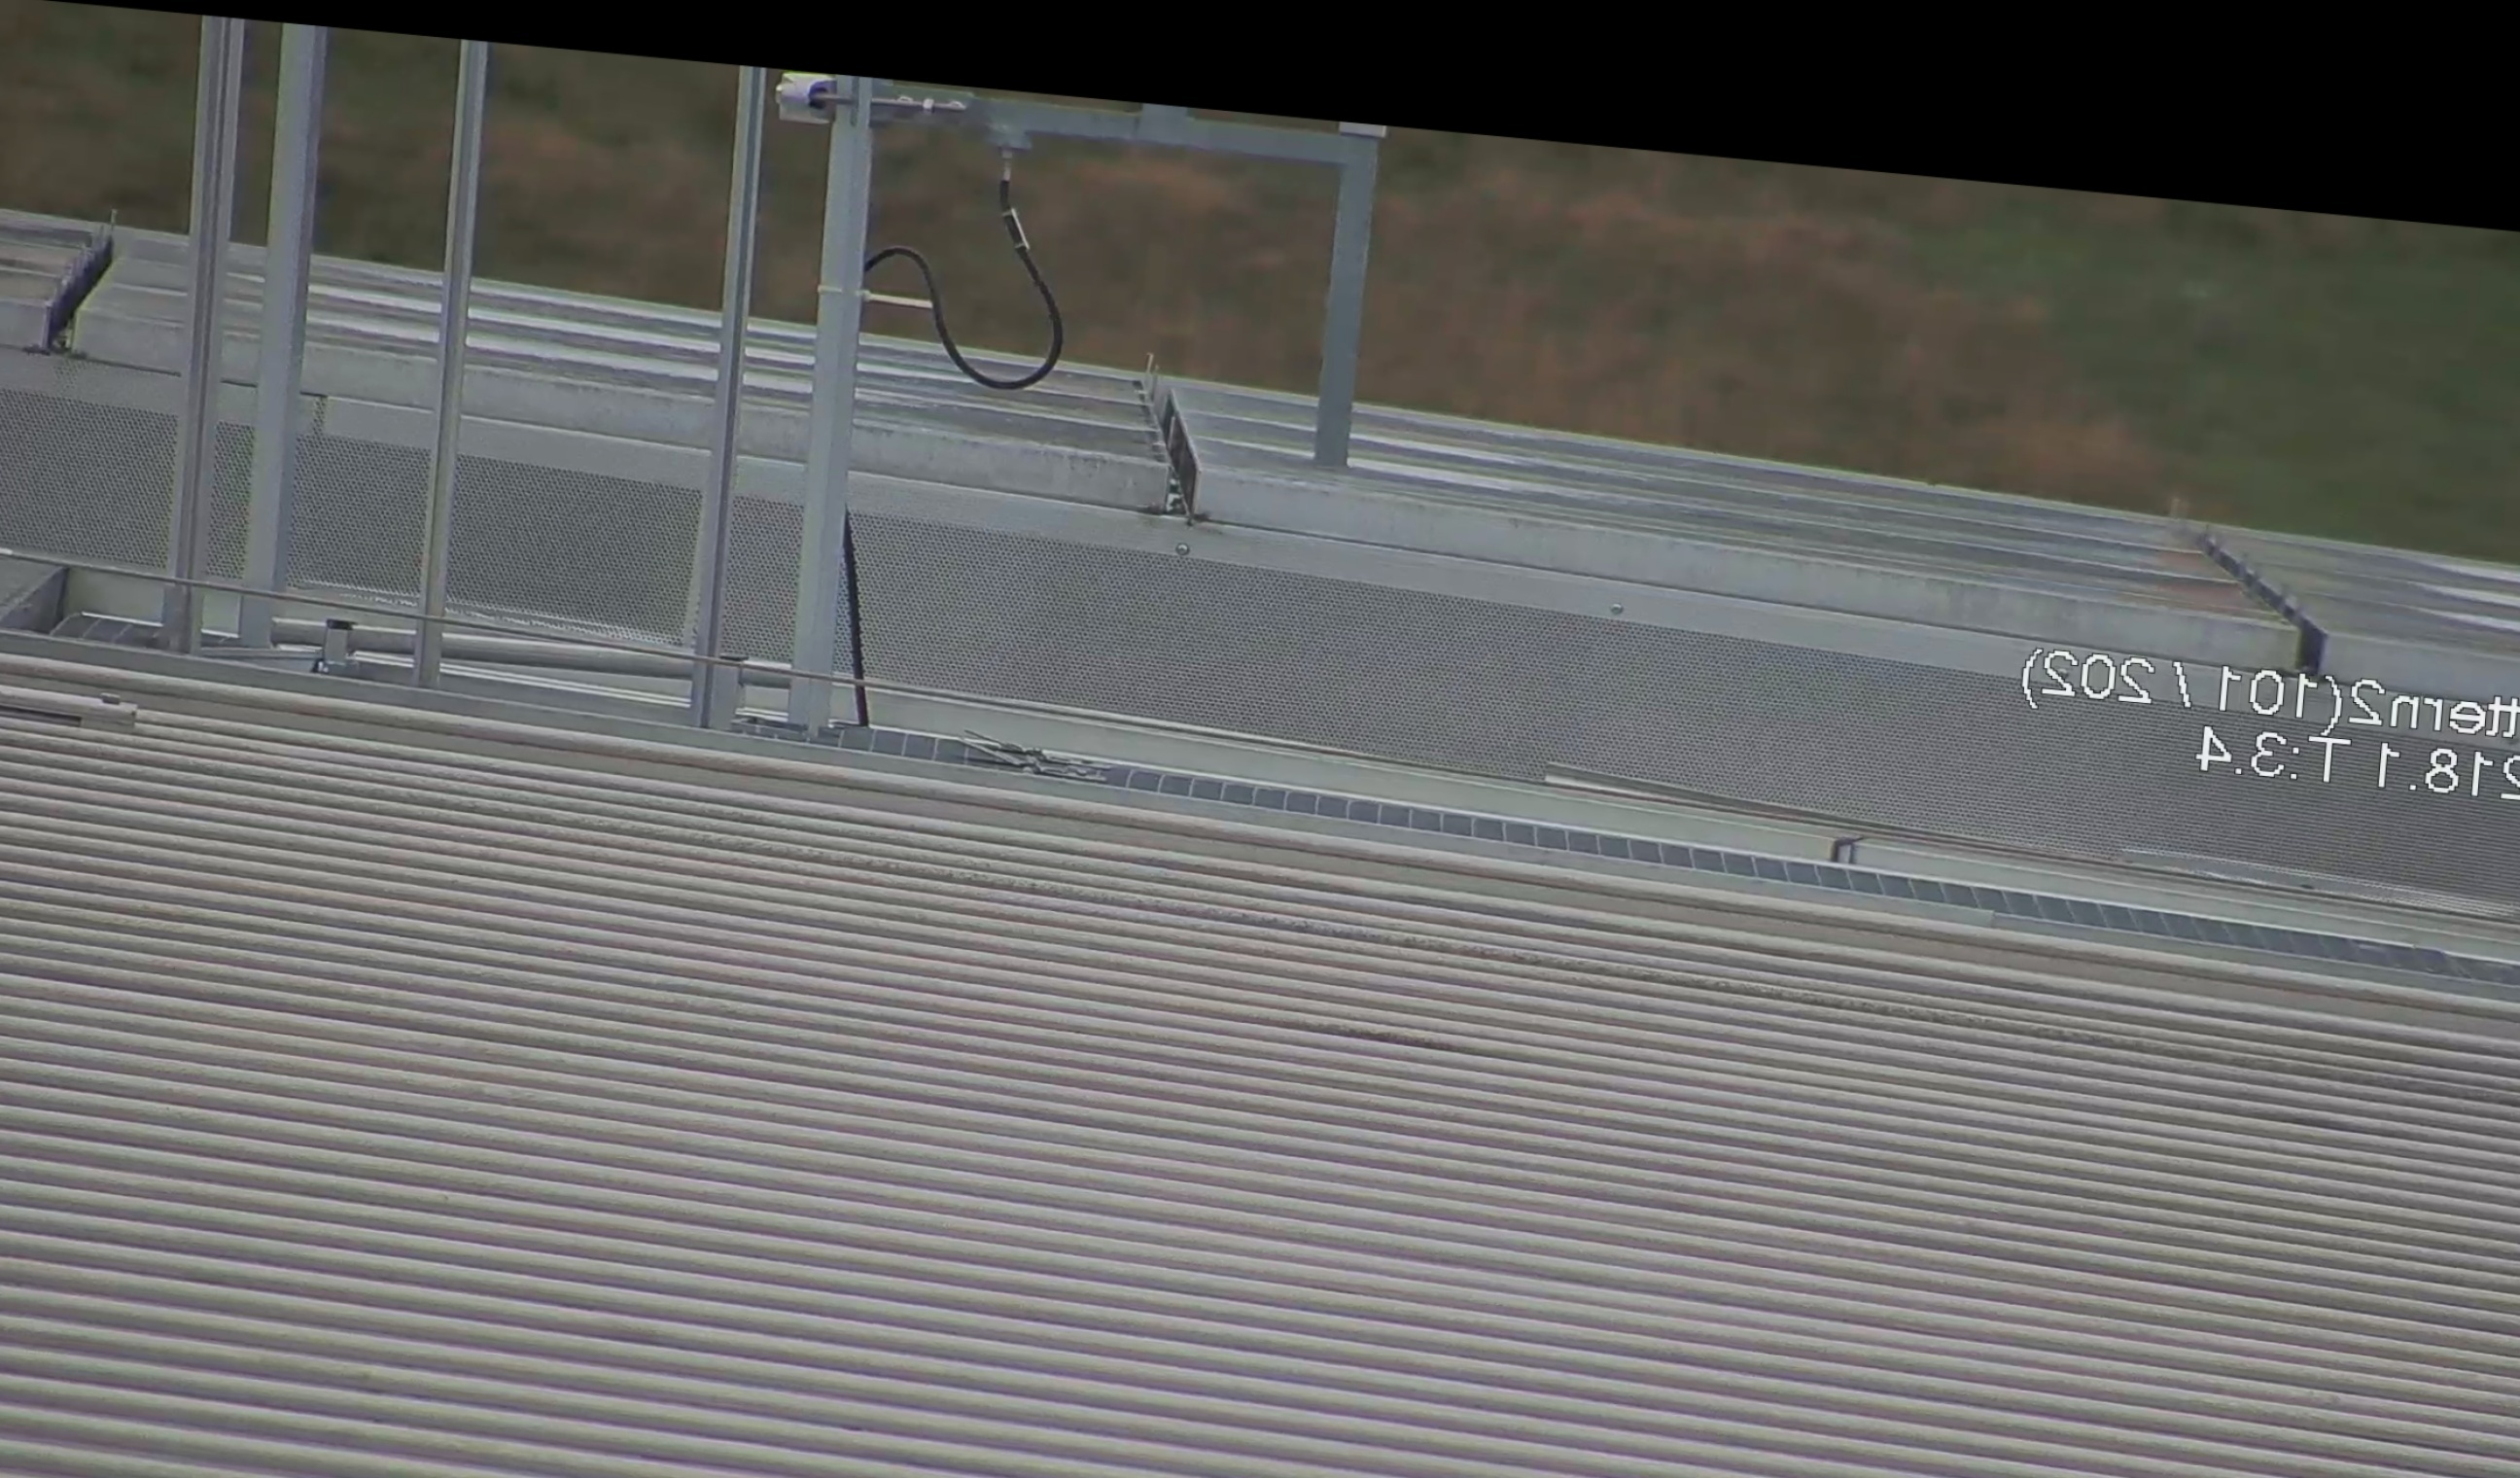Other: (0, 192, 118, 371)
